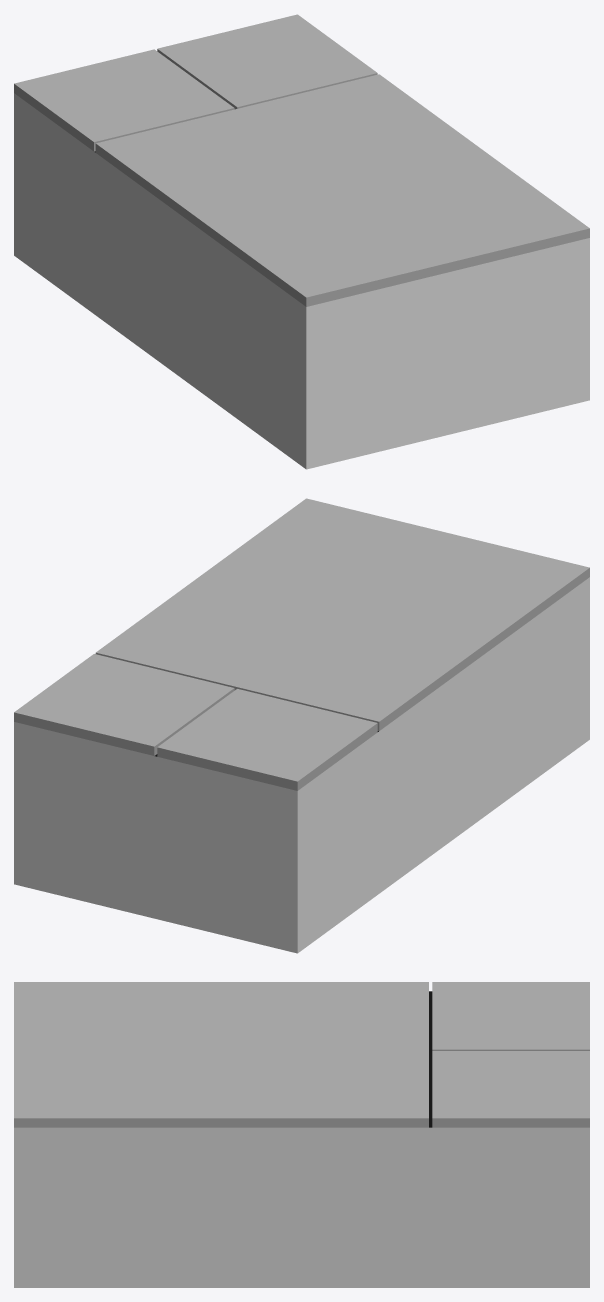
The model's file is Itr_Obj_Mouse_01.FBX.
3 views of the same model, one above another, from view 1: azimuth 30°, elevation 25°; view 2: azimuth 150°, elevation 25°; view 3: azimuth 270°, elevation 25° (orthographic).
Visible parts, largest first — view 1: Itr_Obj_Mouse_01; view 2: Itr_Obj_Mouse_01; view 3: Itr_Obj_Mouse_01.
Boxes of the visible parts, left/top/right/bottom form: Itr_Obj_Mouse_01: left=14, top=14, right=589, bottom=469; Itr_Obj_Mouse_01: left=14, top=498, right=589, bottom=953; Itr_Obj_Mouse_01: left=14, top=982, right=589, bottom=1287.
Bounding box in the file's own units: 2.75 × 1.6 × 4.92.
